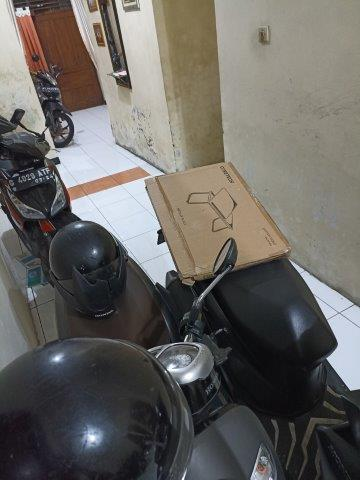kardus: (145, 163, 290, 283)
